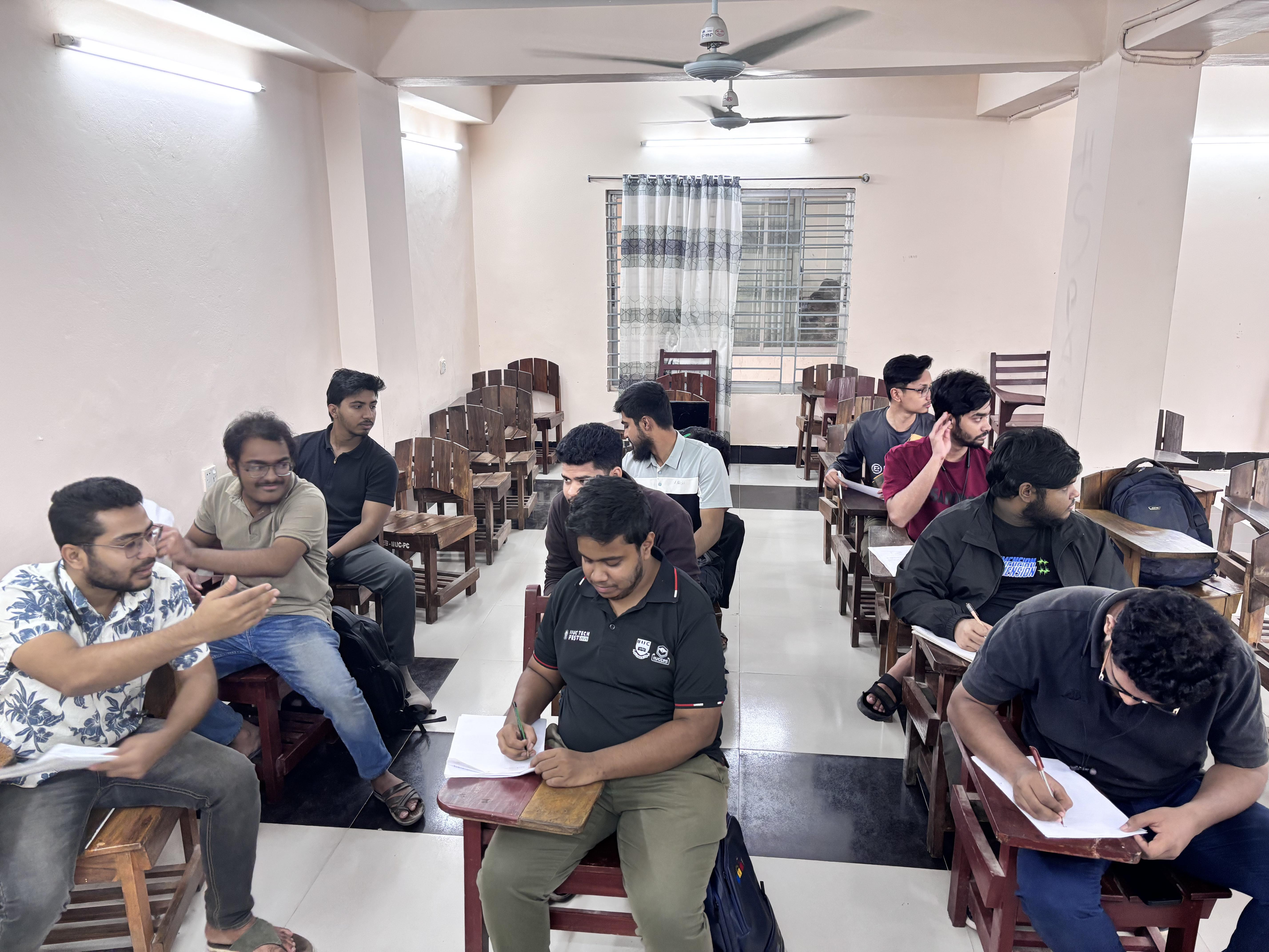copying: (297, 366, 430, 571), (611, 379, 693, 477)
exchanging_sheets: (132, 412, 395, 803)
no_cheating: (7, 473, 293, 889), (963, 560, 1246, 892), (480, 476, 704, 800)
side_talking: (912, 432, 1132, 670), (899, 374, 1010, 526), (865, 348, 953, 491)
suspicious_moving: (543, 421, 622, 519)
